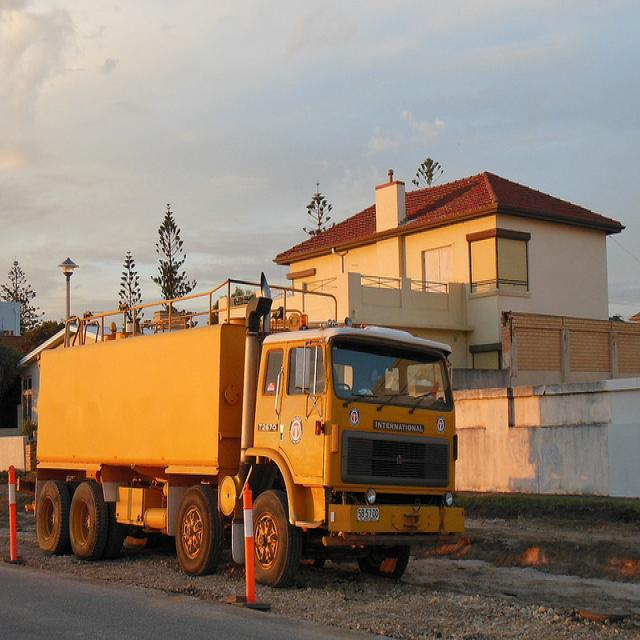Vehicle: (31, 284, 465, 588)
